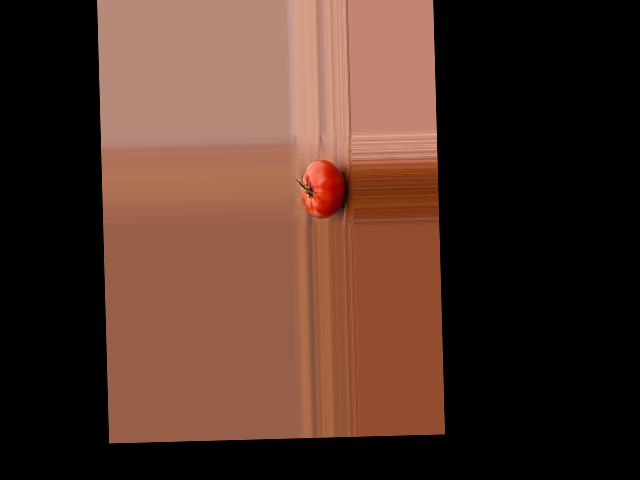tomato: (300, 158, 346, 218)
